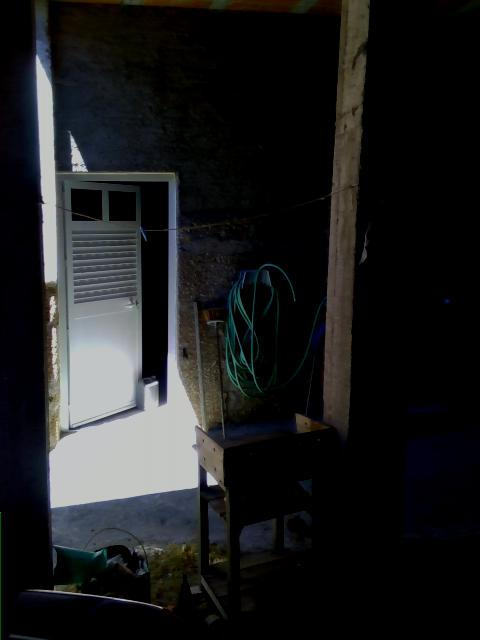semi_door: (57, 171, 176, 431)
